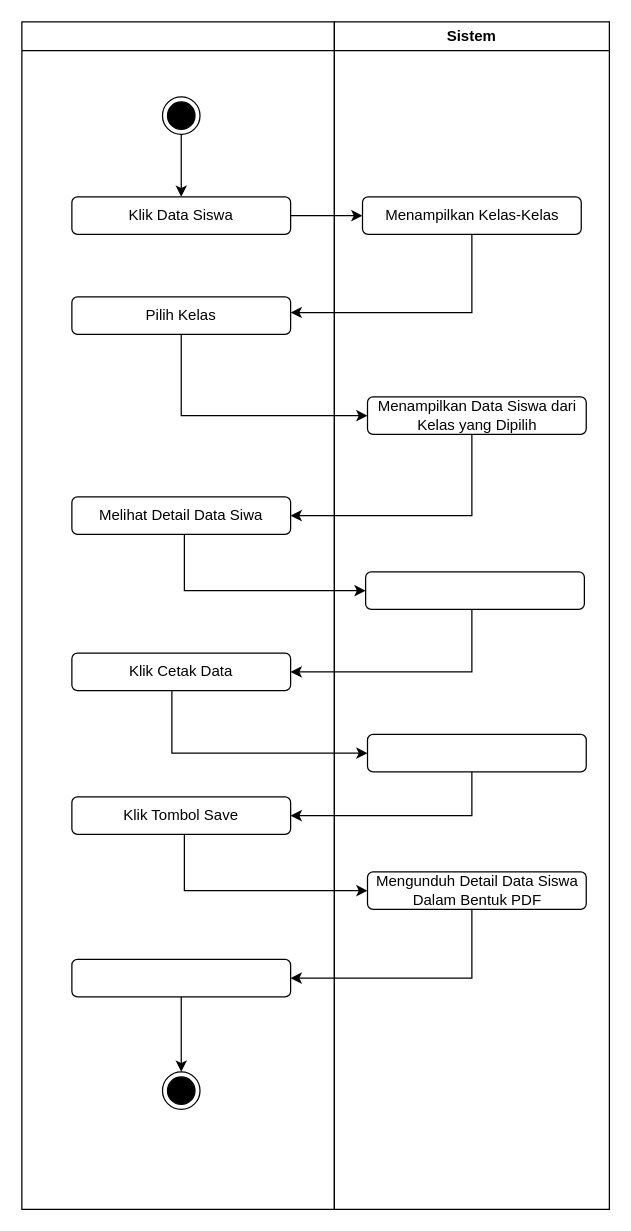
Some shapes in this 631 by 1231 pixel diagram are drawn without their labels. The box of each missing label's shape, as (x1, y1, x2, y2) in pixels:
Aktor: (21, 21, 334, 1209)
Menampilkan Detail Data SIswa: (364, 571, 584, 609)
Menampilkan Preview dari Data yang Akan Dicetak: (366, 733, 586, 772)
Mencetak Detail Data yang Telah Terunduh: (71, 958, 291, 997)
